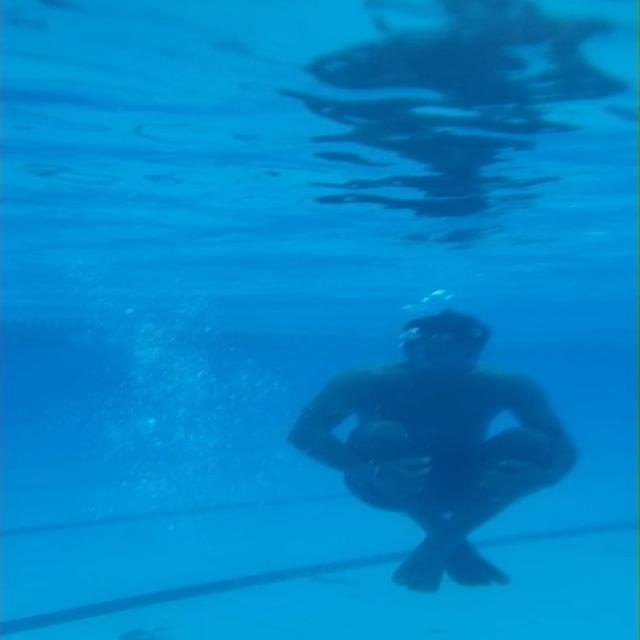Drowning: (290, 313, 582, 592)
